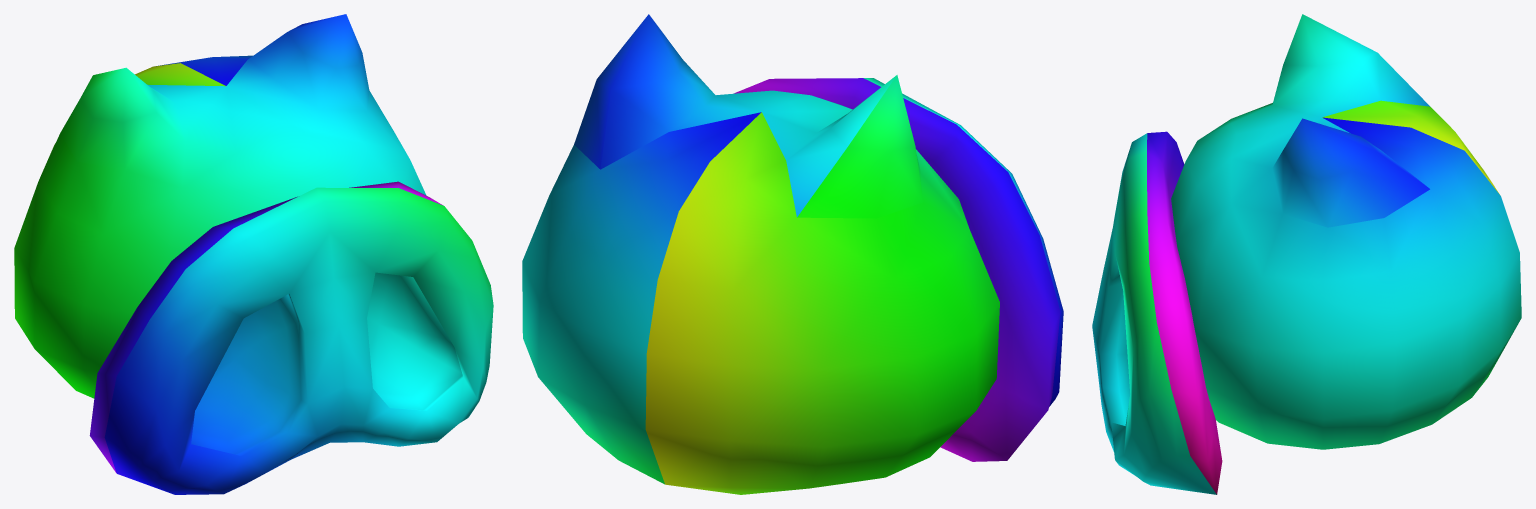
The model's file is hana_l_uv.fbx.
3 renders of one model, left to right at view 1: azimuth 30°, elevation 25°; view 2: azimuth 150°, elevation 25°; view 3: azimuth 270°, elevation 25°, orthographic. The views are drawn at different scales.
Visible parts, largest first — view 1: Sphere001, Sphere002; view 2: Sphere002, Sphere001; view 3: Sphere002, Sphere001.
Boxes of the visible parts, x1=… form: Sphere001: x1=89, y1=181, x2=493, y2=494; Sphere002: x1=14, y1=14, x2=426, y2=398; Sphere002: x1=522, y1=14, x2=999, y2=494; Sphere001: x1=734, y1=78, x2=1063, y2=461; Sphere002: x1=1171, y1=14, x2=1521, y2=449; Sphere001: x1=1092, y1=131, x2=1222, y2=494.
Bounding box in the file's own units: 695 × 633 × 681.
1 material, 1 textured.
